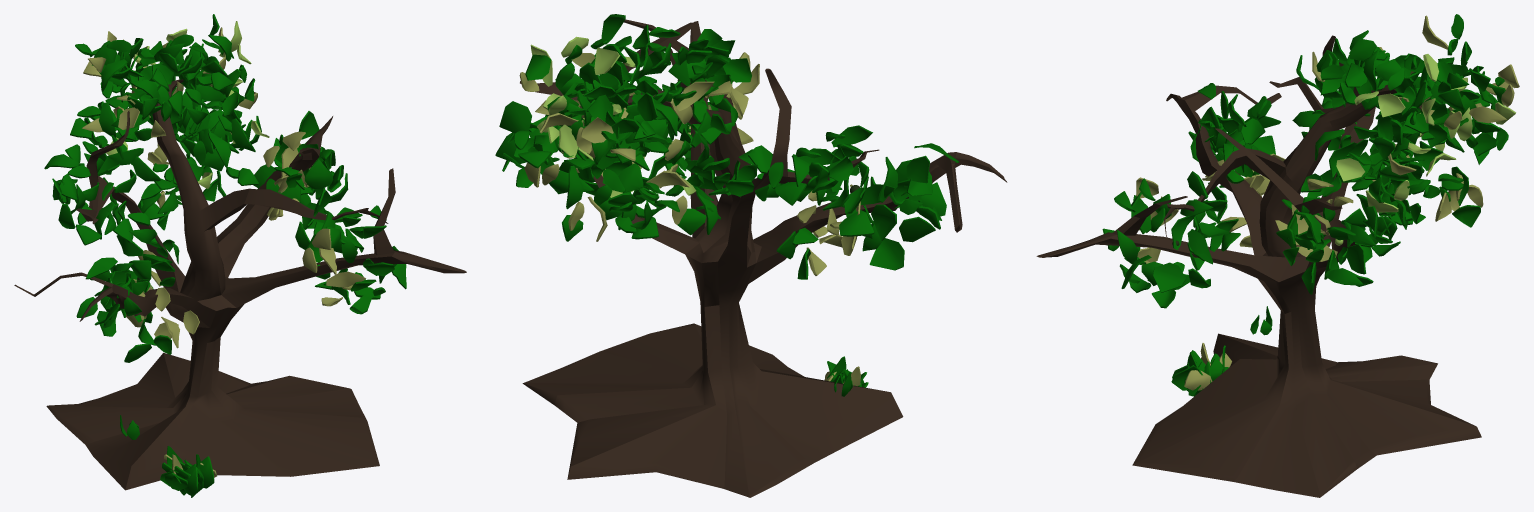
The model's file is Tree_FBX.fbx.
3 renders of one model, left to right at view 1: azimuth 30°, elevation 25°; view 2: azimuth 150°, elevation 25°; view 3: azimuth 270°, elevation 25°, orthographic. The views are drawn at different scales.
Parts seen in each view (by area): view 1: TREE; view 2: TREE; view 3: TREE.
Part boxes in pixels (bbox=[...]): TREE: bbox=[14, 14, 466, 497]; TREE: bbox=[495, 14, 1007, 497]; TREE: bbox=[1036, 14, 1519, 497].
Size of the model in its own units: 9.08 by 9.12 by 9.91.
